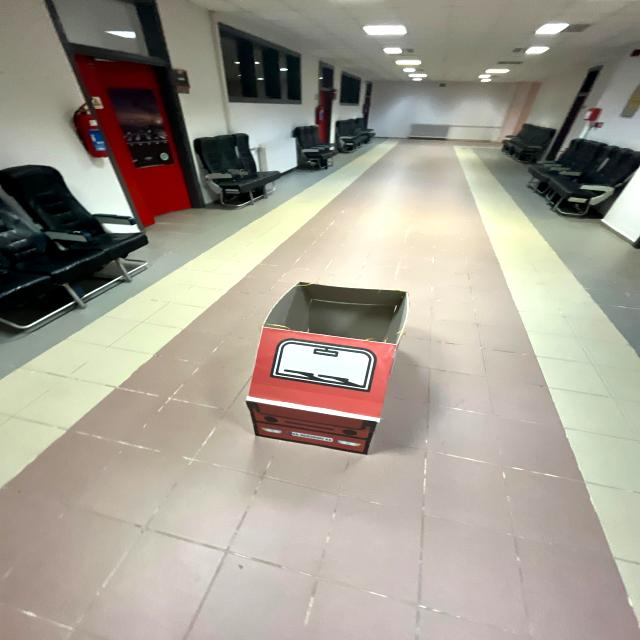red_car: (237, 272, 434, 477)
